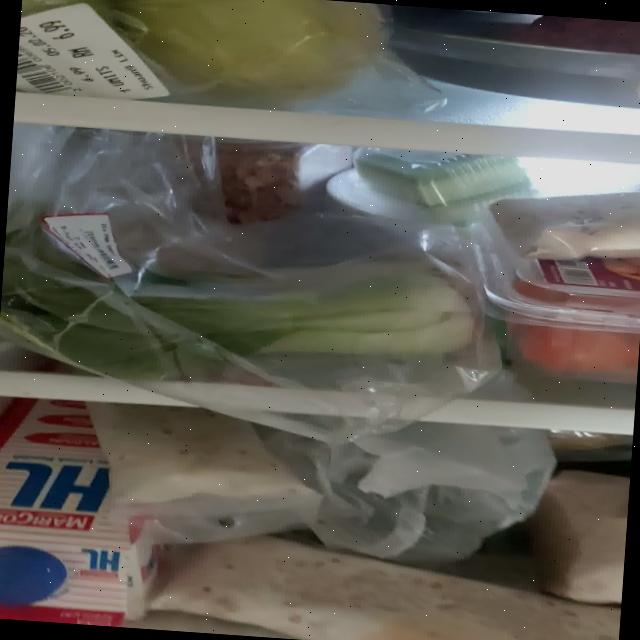apple: (15, 0, 387, 117)
pakchoy: (0, 246, 475, 401)
tempeh: (143, 525, 624, 640), (78, 400, 312, 518)
